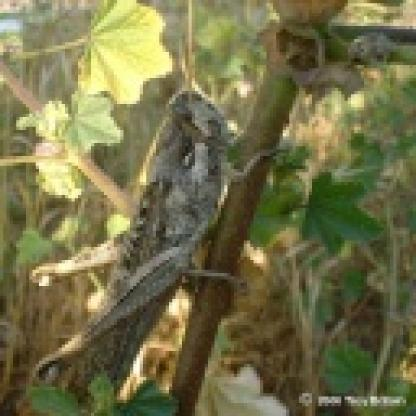grasshopper: (23, 60, 284, 404)
